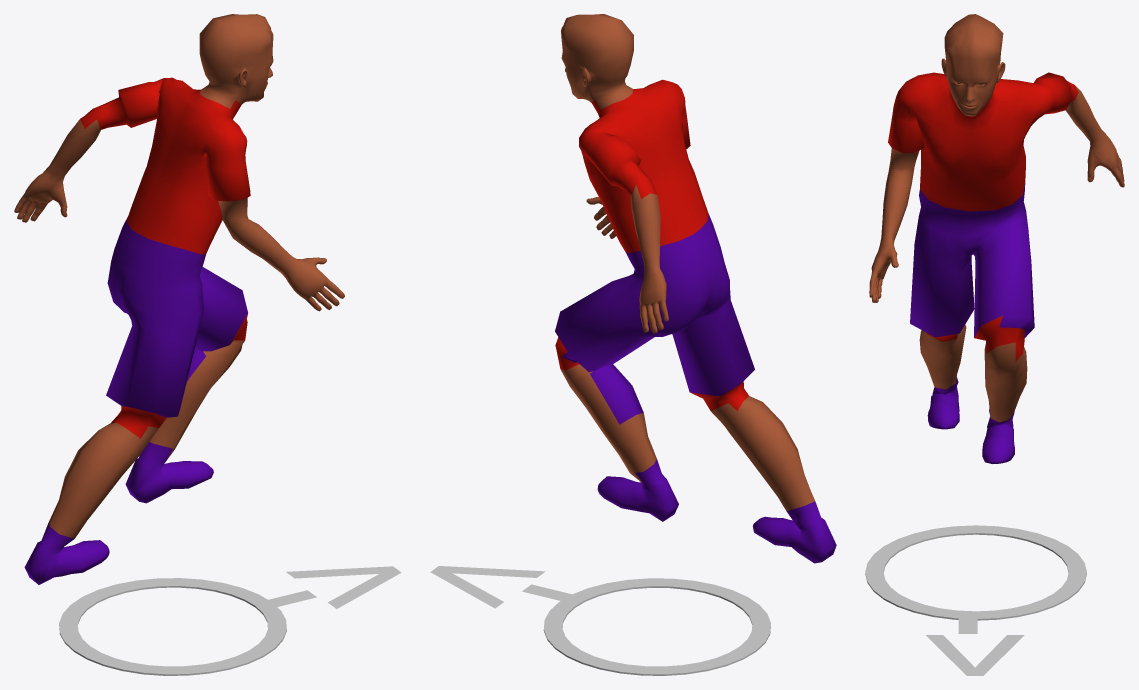
Rendered from player_000006.obj.
The picture shows the model from 3 angles, left to right: view 1: azimuth 30°, elevation 25°; view 2: azimuth 150°, elevation 25°; view 3: azimuth 270°, elevation 25°; orthographic projection. The views are drawn at different scales.
Parts seen in each view (by area): view 1: soccerplayer.002_mesh.003, Circle, Text.001_Mesh.001; view 2: soccerplayer.002_mesh.003, Circle, Text.001_Mesh.001; view 3: soccerplayer.002_mesh.003, Circle, Text.001_Mesh.001.
Part boxes in pixels (x1,y1,x2,y2): soccerplayer.002_mesh.003: [14, 14, 344, 584]; Circle: [59, 578, 286, 675]; Text.001_Mesh.001: [264, 566, 401, 608]; soccerplayer.002_mesh.003: [555, 14, 836, 563]; Circle: [543, 578, 770, 675]; Text.001_Mesh.001: [430, 566, 575, 608]; soccerplayer.002_mesh.003: [869, 14, 1124, 463]; Circle: [865, 525, 1086, 620]; Text.001_Mesh.001: [926, 613, 1024, 675].
Size of the model in its own units: 2.11 by 3.14 by 1.27.
